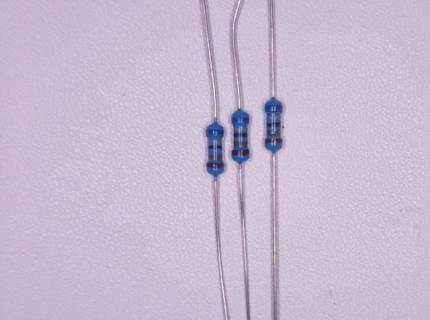Black band: (233, 132, 248, 138), (207, 145, 223, 150), (266, 122, 281, 127)
Blue band: (264, 105, 283, 110), (205, 130, 224, 135), (232, 117, 250, 122)
Brown band: (231, 149, 250, 156), (206, 162, 225, 168), (265, 139, 283, 144)
Grey band: (208, 139, 222, 144), (266, 116, 282, 120), (233, 127, 248, 131)
Orange band: (233, 141, 248, 147), (208, 154, 223, 159), (267, 130, 281, 135)
